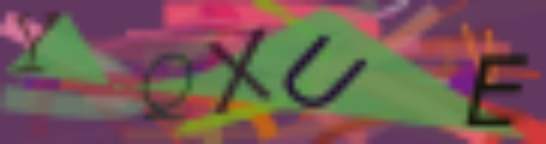E: (460, 51, 528, 129)
Q: (132, 50, 198, 124)
U: (281, 29, 371, 113)
X: (205, 23, 277, 117)
Y: (8, 9, 67, 76)
